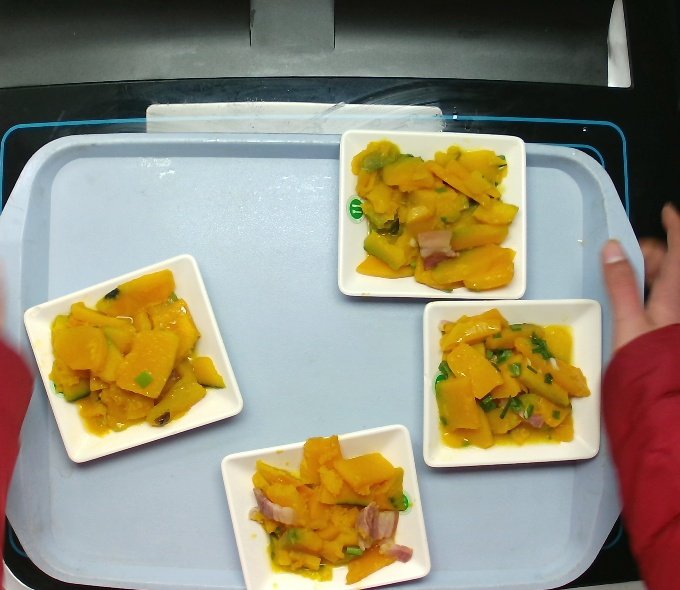wcq-NanGuaChaoLaRou: (45, 267, 230, 441), (349, 136, 524, 294), (245, 432, 419, 586), (428, 306, 594, 453)
